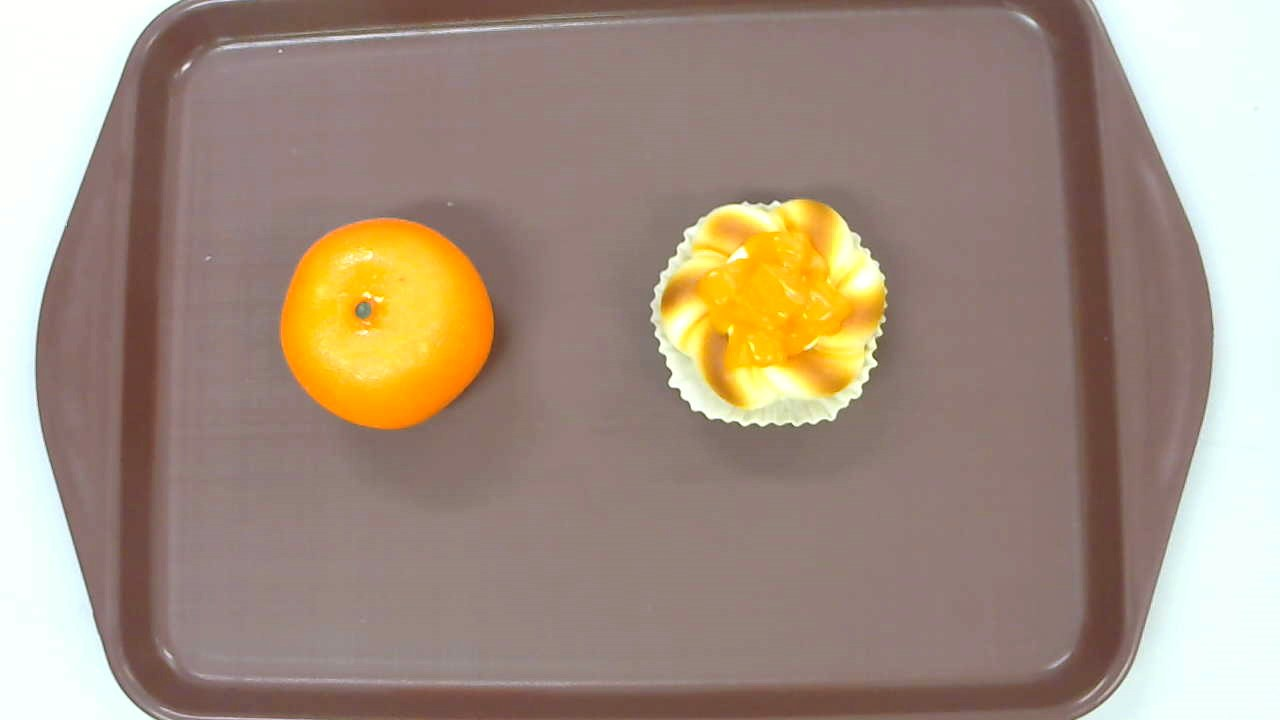mango tart: (650, 197, 888, 428)
orange: (278, 217, 494, 432)
